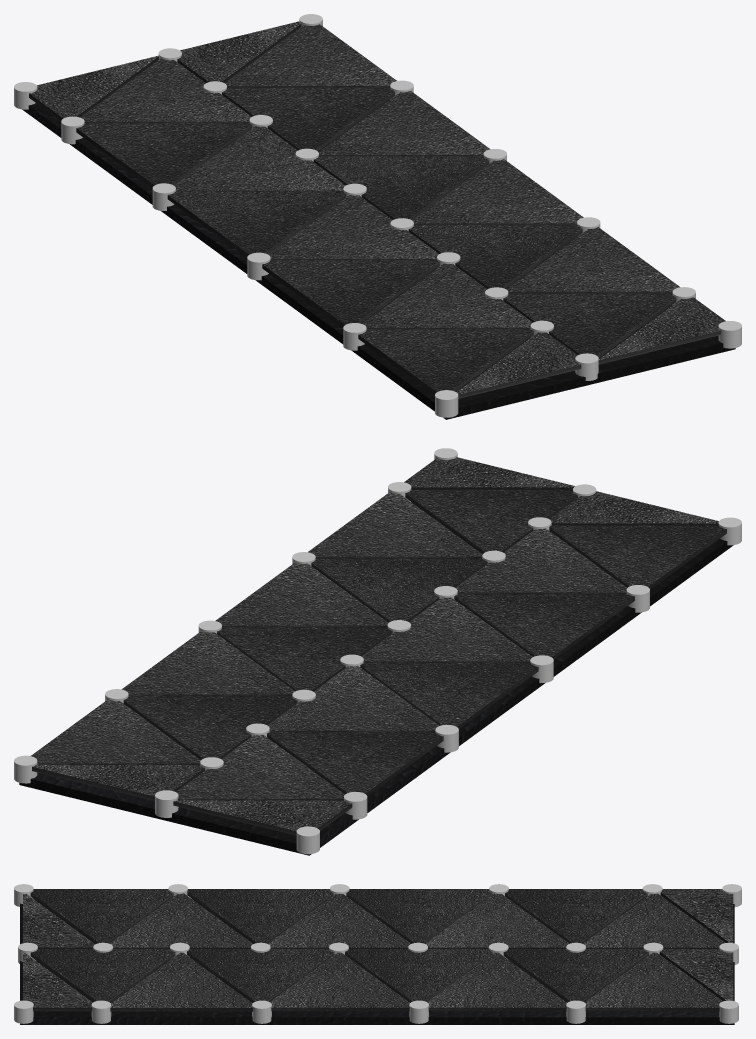
File: placas.obj
3 views of the same model, one above another, from view 1: azimuth 30°, elevation 25°; view 2: azimuth 150°, elevation 25°; view 3: azimuth 270°, elevation 25° (orthographic). The views are drawn at different scales.
Visible parts, largest first — view 1: placas:pCylinder11; view 2: placas:pCylinder11; view 3: placas:pCylinder11.
Part boxes in pixels (bbox=[...]): placas:pCylinder11: bbox=[14, 14, 741, 419]; placas:pCylinder11: bbox=[14, 448, 741, 855]; placas:pCylinder11: bbox=[14, 884, 741, 1024].
Size of the model in its own units: 3.31 by 0.2343 by 8.15.
